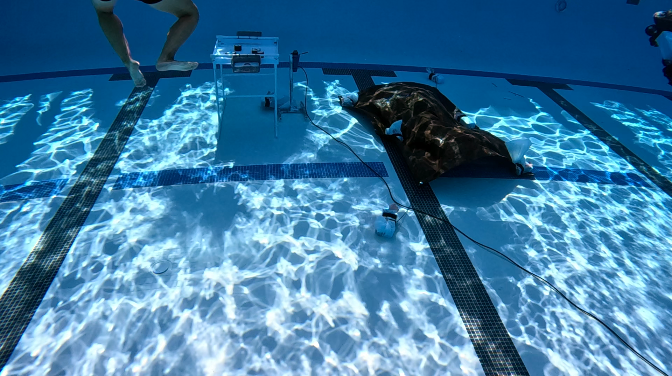sandbag: (341, 74, 540, 181), (376, 209, 400, 238)
